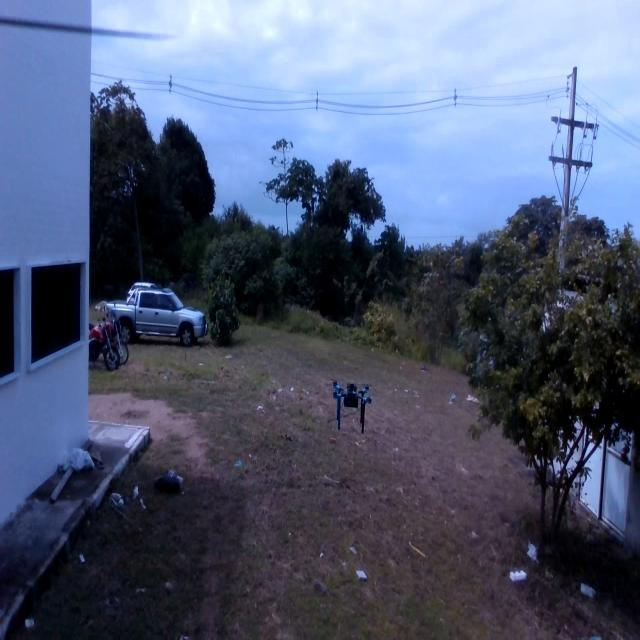-uav-: (331, 358, 376, 446)
